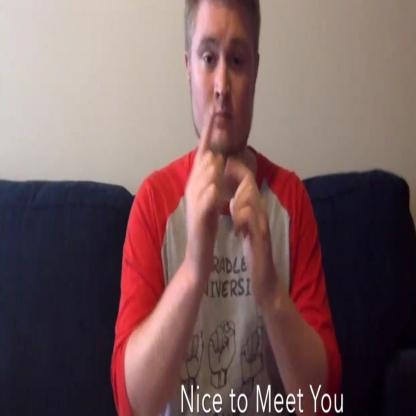NiceToMeetYou: (180, 87, 275, 316)
